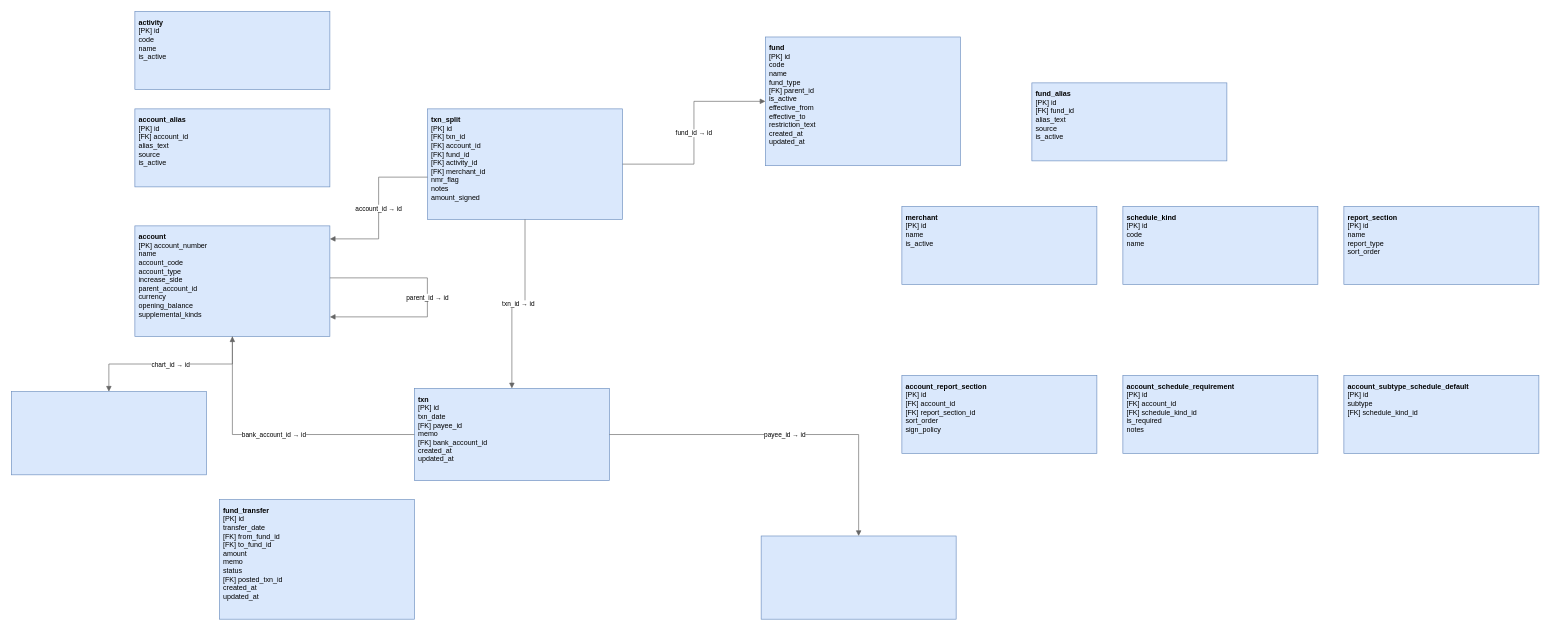
This 1550x631 diagram has some shape labels left out. The shapes that lost their labels are listed below. From the top down, each one's centre as x and y in pixels, then its label:
[108,433]: chart_of_accounts [PK] id name version status created_at updated_at
[858,577]: counterparty [PK] id display_name kind email phone is_active
